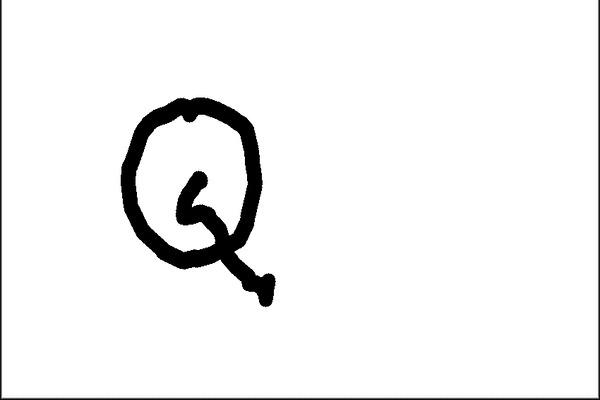Q: (108, 85, 289, 321)
